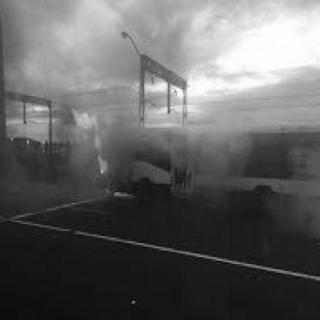Fire: (73, 105, 99, 132)
